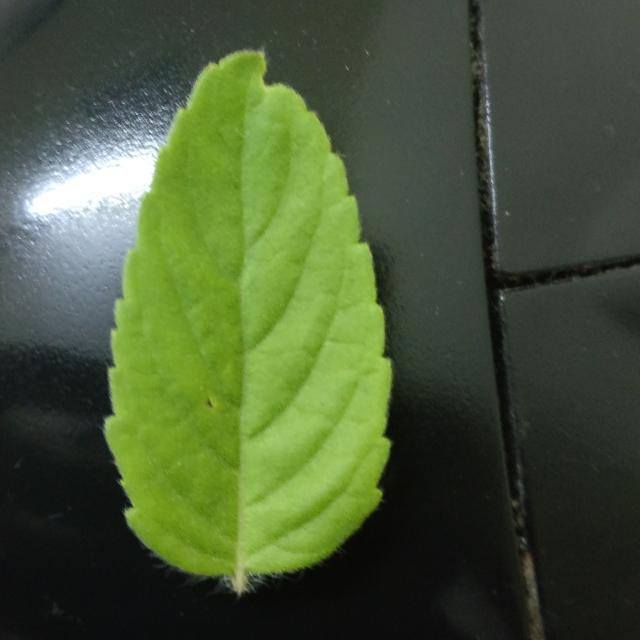tulsi: (105, 52, 391, 593)
